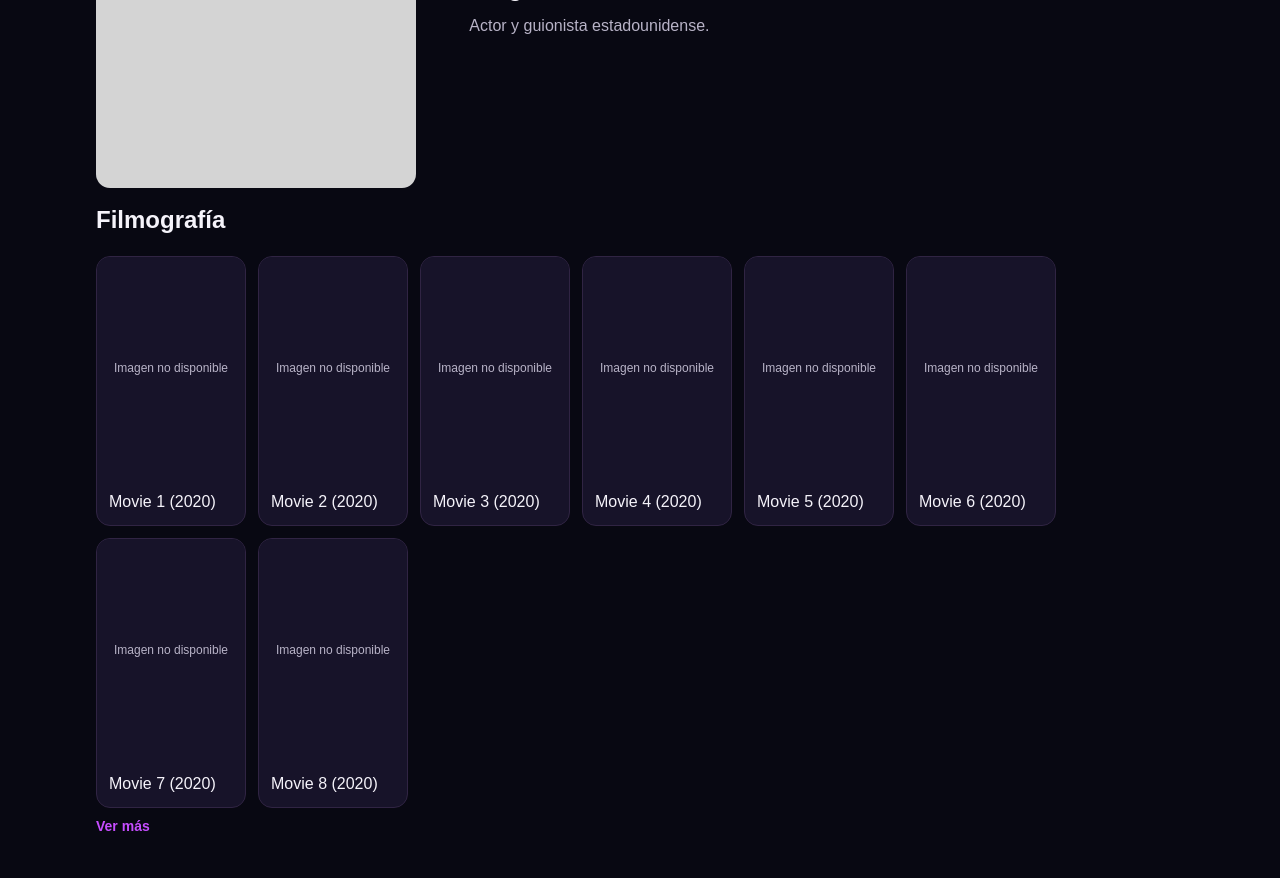
Test: ActorDetailPage › should expand and collapse the actor filmography
The image size is (1280, 878).
(page scrolled)
Click the button "Ver más": {"x": 123, "y": 826} [96,816,150,836]
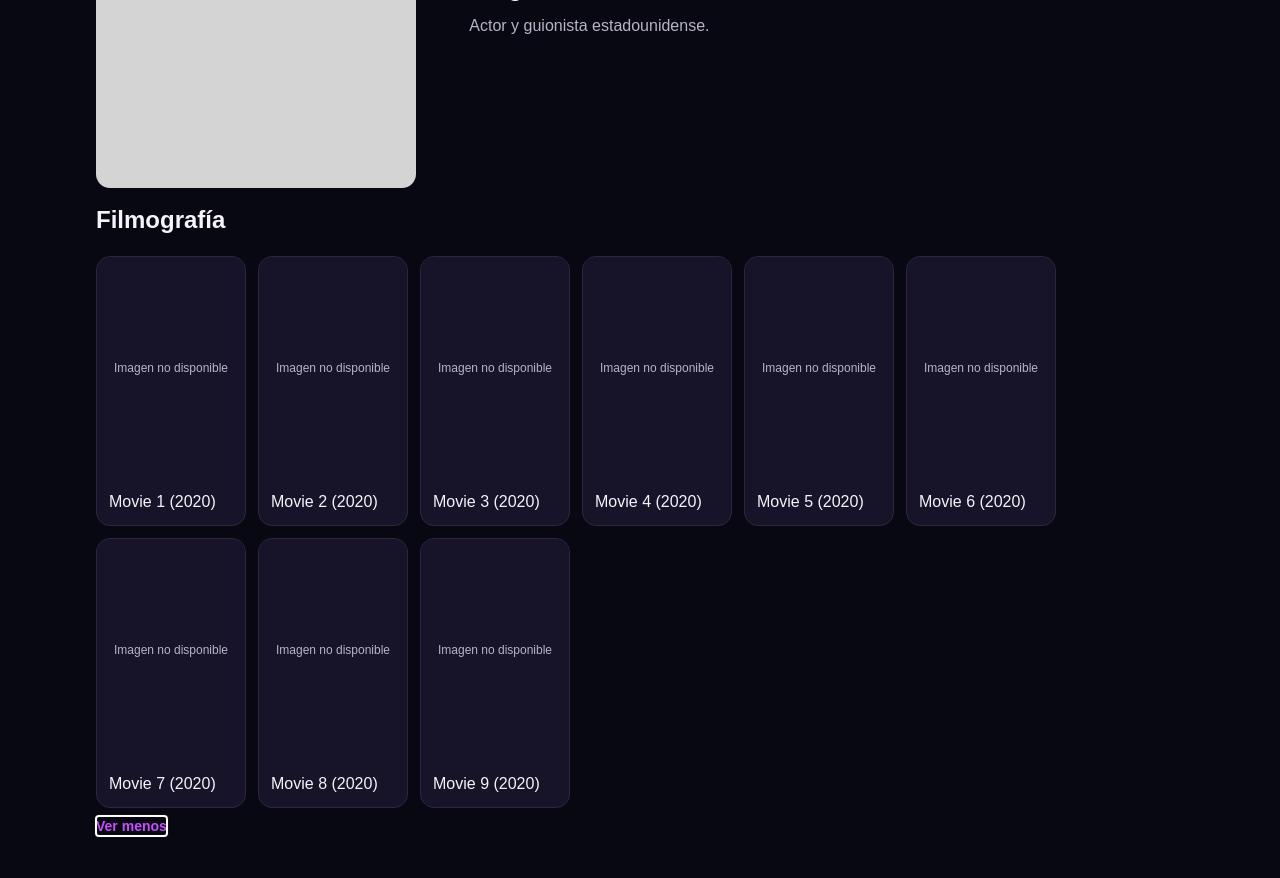
Click the button "Ver menos": {"x": 131, "y": 826} [96,816,167,836]
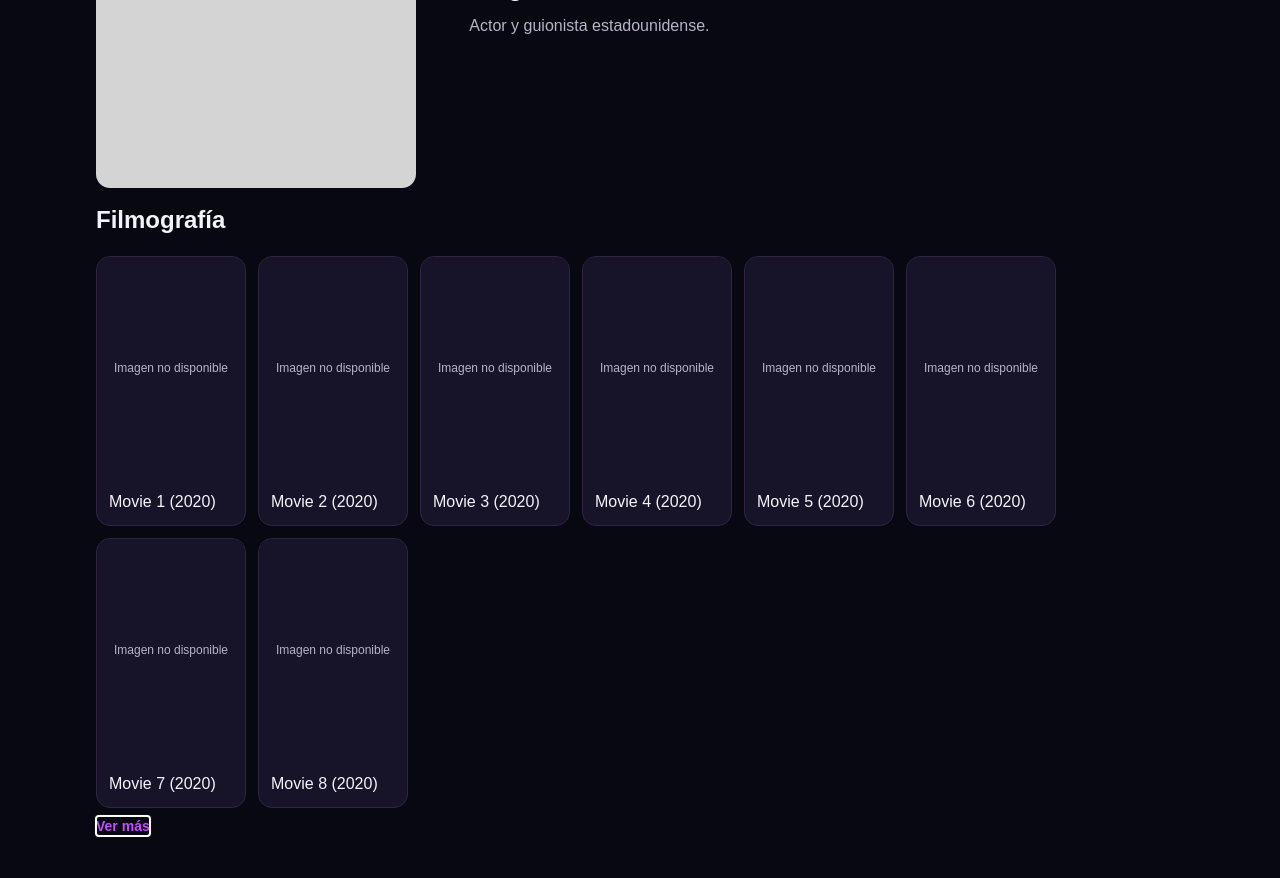
Check: the button "Ver más" is shown, box [96,816,150,836]
